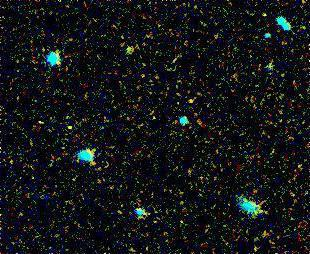star: (178, 92, 208, 122)
